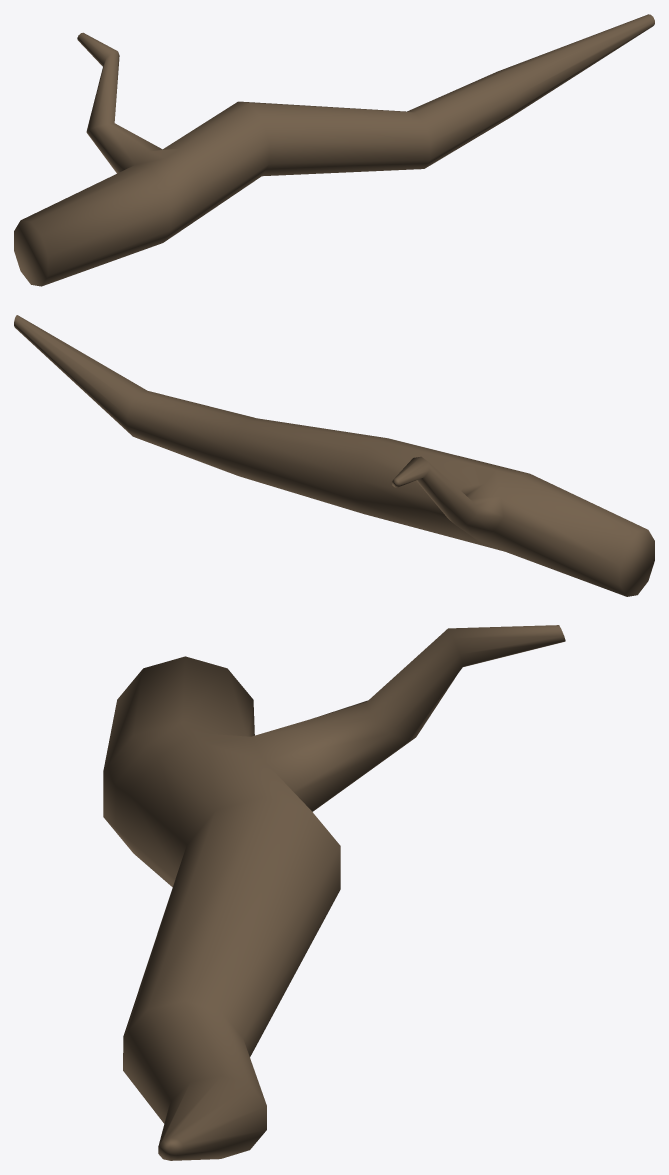
File: Galhao_3.fbx
3 views of the same model, one above another, from view 1: azimuth 30°, elevation 25°; view 2: azimuth 150°, elevation 25°; view 3: azimuth 270°, elevation 25° (orthographic). The views are drawn at different scales.
Parts seen in each view (by area): view 1: pCylinder6; view 2: pCylinder6; view 3: pCylinder6.
Boxes of the visible parts, x1=… form: pCylinder6: x1=14, y1=14, x2=654, y2=286; pCylinder6: x1=14, y1=315, x2=654, y2=596; pCylinder6: x1=103, y1=625, x2=565, y2=1160.
Size of the model in its own units: 23.31 by 5.36 by 7.56.
